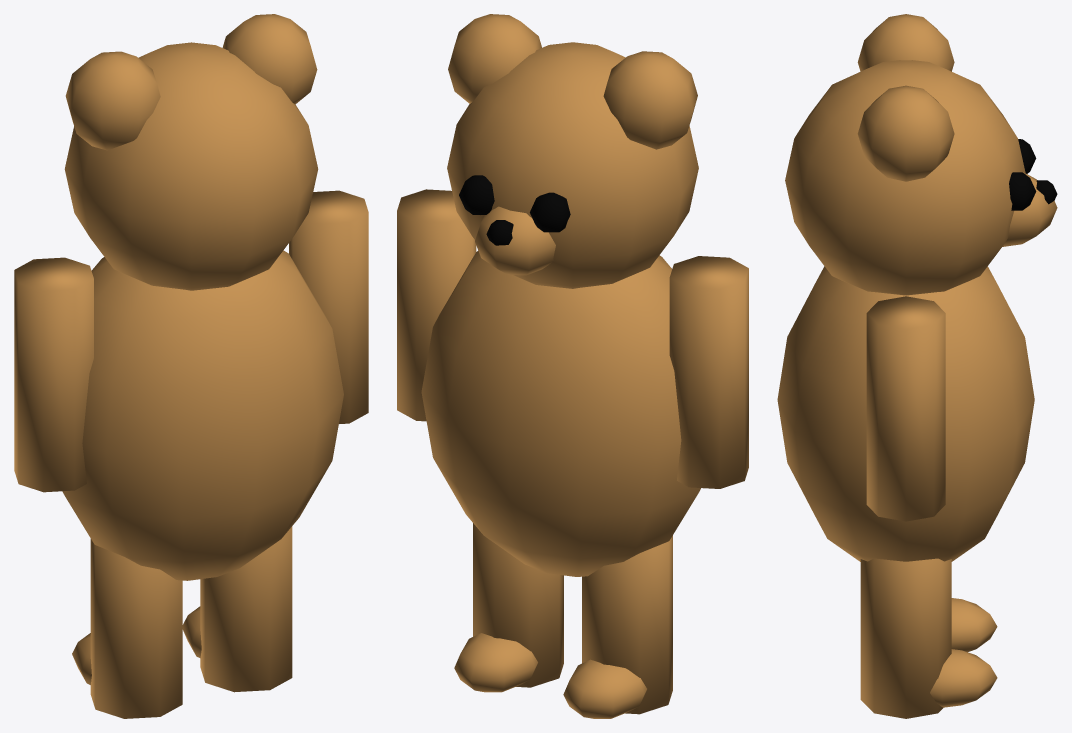
The model's file is bear_standing.glb.
The picture shows the model from 3 angles, left to right: view 1: azimuth 30°, elevation 25°; view 2: azimuth 150°, elevation 25°; view 3: azimuth 270°, elevation 25°; orthographic projection. The views are drawn at different scales.
Parts seen in each view (by area): view 1: BearStanding; view 2: BearStanding; view 3: BearStanding.
Part boxes in pixels (left/top/right/bottom): BearStanding: left=14, top=14, right=368, bottom=718; BearStanding: left=397, top=14, right=748, bottom=718; BearStanding: left=777, top=14, right=1057, bottom=718.
Bounding box in the file's own units: 1.26 × 2.27 × 0.925.
